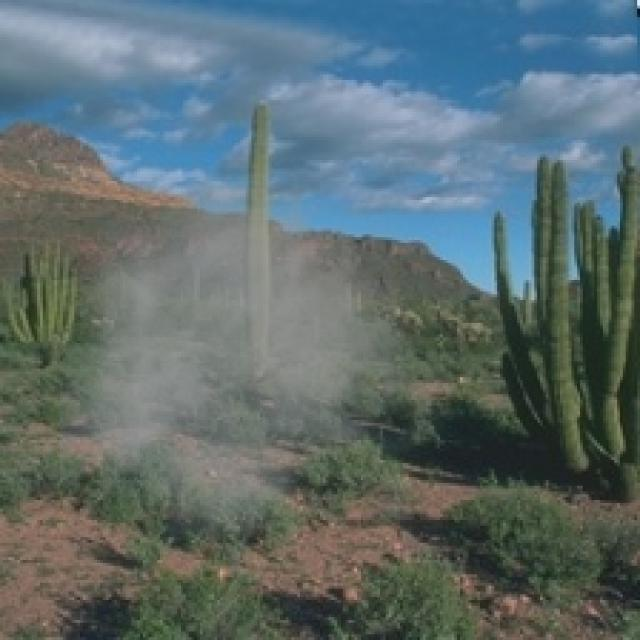Smoke: (59, 145, 452, 560)
